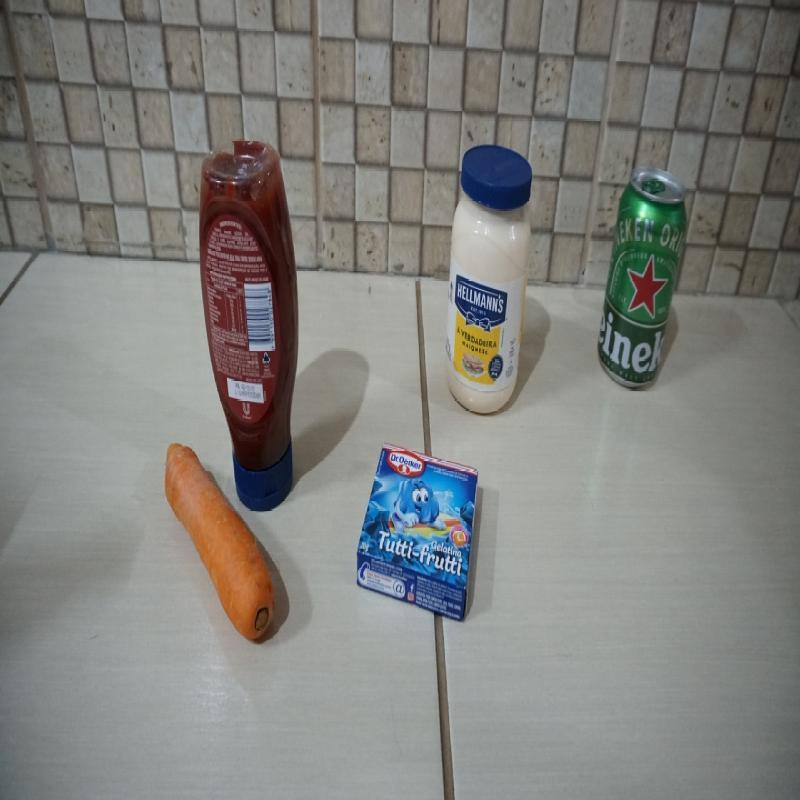Beer can: (596, 164, 689, 393)
Carrot: (165, 442, 279, 644)
Gelatine: (356, 443, 479, 625)
Ketchup: (199, 140, 301, 514)
Mayonnaise: (444, 144, 535, 415)
